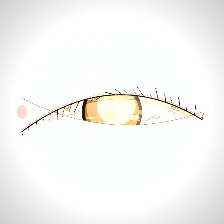corneal_ulcer: (85, 81, 148, 131)
